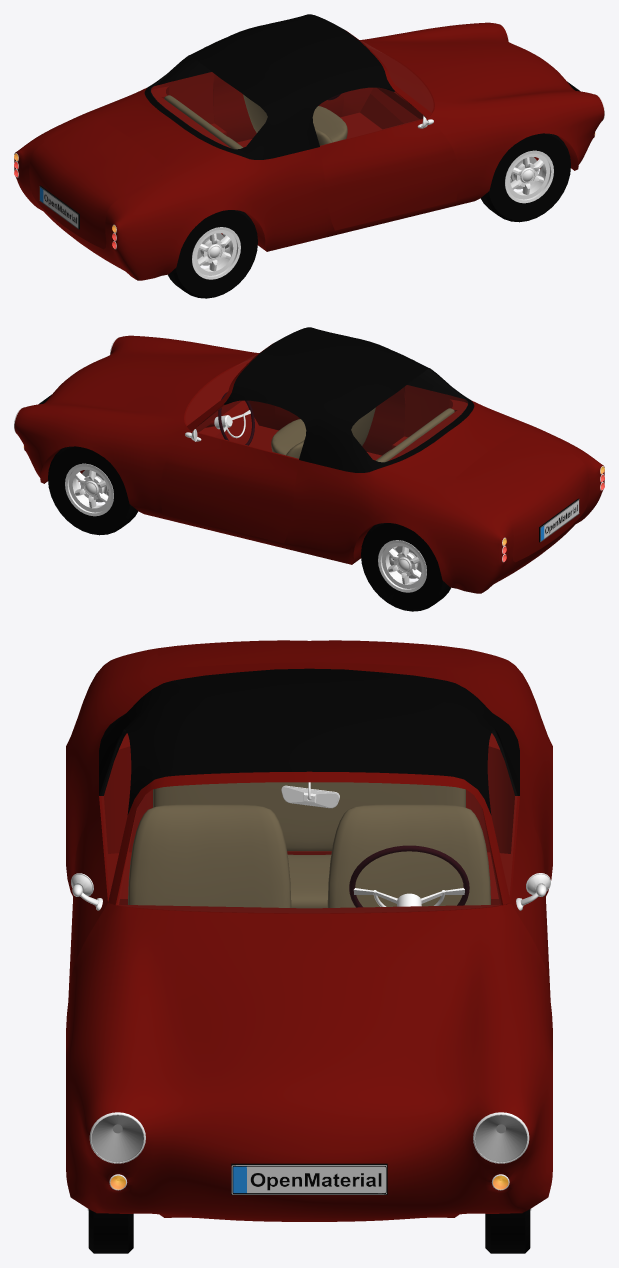
The model's file is vehicle_example.gltf.
3 renders of one model, top to bottom at view 1: azimuth 30°, elevation 25°; view 2: azimuth 150°, elevation 25°; view 3: azimuth 270°, elevation 25°, orthographic. The views are drawn at different scales.
Visible parts, largest first — view 1: Body, Roof, Door_FR, Trunk_Lid, Tire_FR, Tire_BR, Door_FL, Rim_FR, Rim_BR, FrontSeat_Seating_L, License_Plate_R, RearSeat_Backrest (+1 smaller); view 2: Body, Roof, Door_FL, Trunk_Lid, Tire_FL, Tire_BL, Door_FR, Rim_FL, Rim_BL, FrontSeat_Seating_R, License_Plate_R, RearSeat_Backrest (+1 smaller); view 3: Body, Roof, FrontSeat_Backrest_R, FrontSeat_Backrest_L, RearSeat_Backrest, Trunk_Lid, License_Plate_F, Door_FL, Door_FR, Light_Low_Beam_Reflector_FL, Light_Low_Beam_Reflector_FR, RearSeat_Seating (+7 smaller).
Boxes of the visible parts, x1=… form: Body: x1=14, y1=22, x2=604, y2=280; Roof: x1=144, y1=14, x2=394, y2=159; Door_FR: x1=320, y1=118, x2=458, y2=230; Trunk_Lid: x1=29, y1=118, x2=166, y2=249; Tire_FR: x1=480, y1=133, x2=570, y2=222; Tire_BR: x1=168, y1=210, x2=257, y2=298; Door_FL: x1=213, y1=75, x2=343, y2=142; Rim_FR: x1=505, y1=150, x2=553, y2=203; Rim_BR: x1=192, y1=227, x2=240, y2=279; FrontSeat_Seating_L: x1=312, y1=106, x2=347, y2=142; License_Plate_R: x1=39, y1=185, x2=79, y2=229; RearSeat_Backrest: x1=164, y1=95, x2=242, y2=149; Body: x1=14, y1=335, x2=604, y2=593; Roof: x1=224, y1=327, x2=474, y2=472; Door_FL: x1=160, y1=431, x2=298, y2=543; Trunk_Lid: x1=452, y1=431, x2=589, y2=562; Tire_FL: x1=48, y1=446, x2=138, y2=535; Tire_BL: x1=361, y1=523, x2=450, y2=611; Door_FR: x1=275, y1=388, x2=405, y2=455; Rim_FL: x1=65, y1=463, x2=113, y2=516; Rim_BL: x1=378, y1=540, x2=426, y2=592; FrontSeat_Seating_R: x1=271, y1=419, x2=306, y2=455; License_Plate_R: x1=539, y1=498, x2=579, y2=542; RearSeat_Backrest: x1=376, y1=408, x2=454, y2=462; Body: x1=66, y1=648, x2=552, y2=1221; Roof: x1=99, y1=668, x2=519, y2=814; FrontSeat_Backrest_R: x1=128, y1=804, x2=291, y2=907; FrontSeat_Backrest_L: x1=327, y1=804, x2=490, y2=907; RearSeat_Backrest: x1=153, y1=782, x2=465, y2=851; Trunk_Lid: x1=157, y1=640, x2=461, y2=667; License_Plate_F: x1=231, y1=1163, x2=387, y2=1194; Door_FL: x1=508, y1=796, x2=550, y2=998; Door_FR: x1=68, y1=796, x2=110, y2=998; Light_Low_Beam_Reflector_FL: x1=473, y1=1112, x2=529, y2=1163; Light_Low_Beam_Reflector_FR: x1=89, y1=1112, x2=145, y2=1163; RearSeat_Seating: x1=287, y1=854, x2=331, y2=908.
Size of the model in its own units: 3.85 by 1.3 by 1.62.
Materials: 14 (1 with a texture image).
